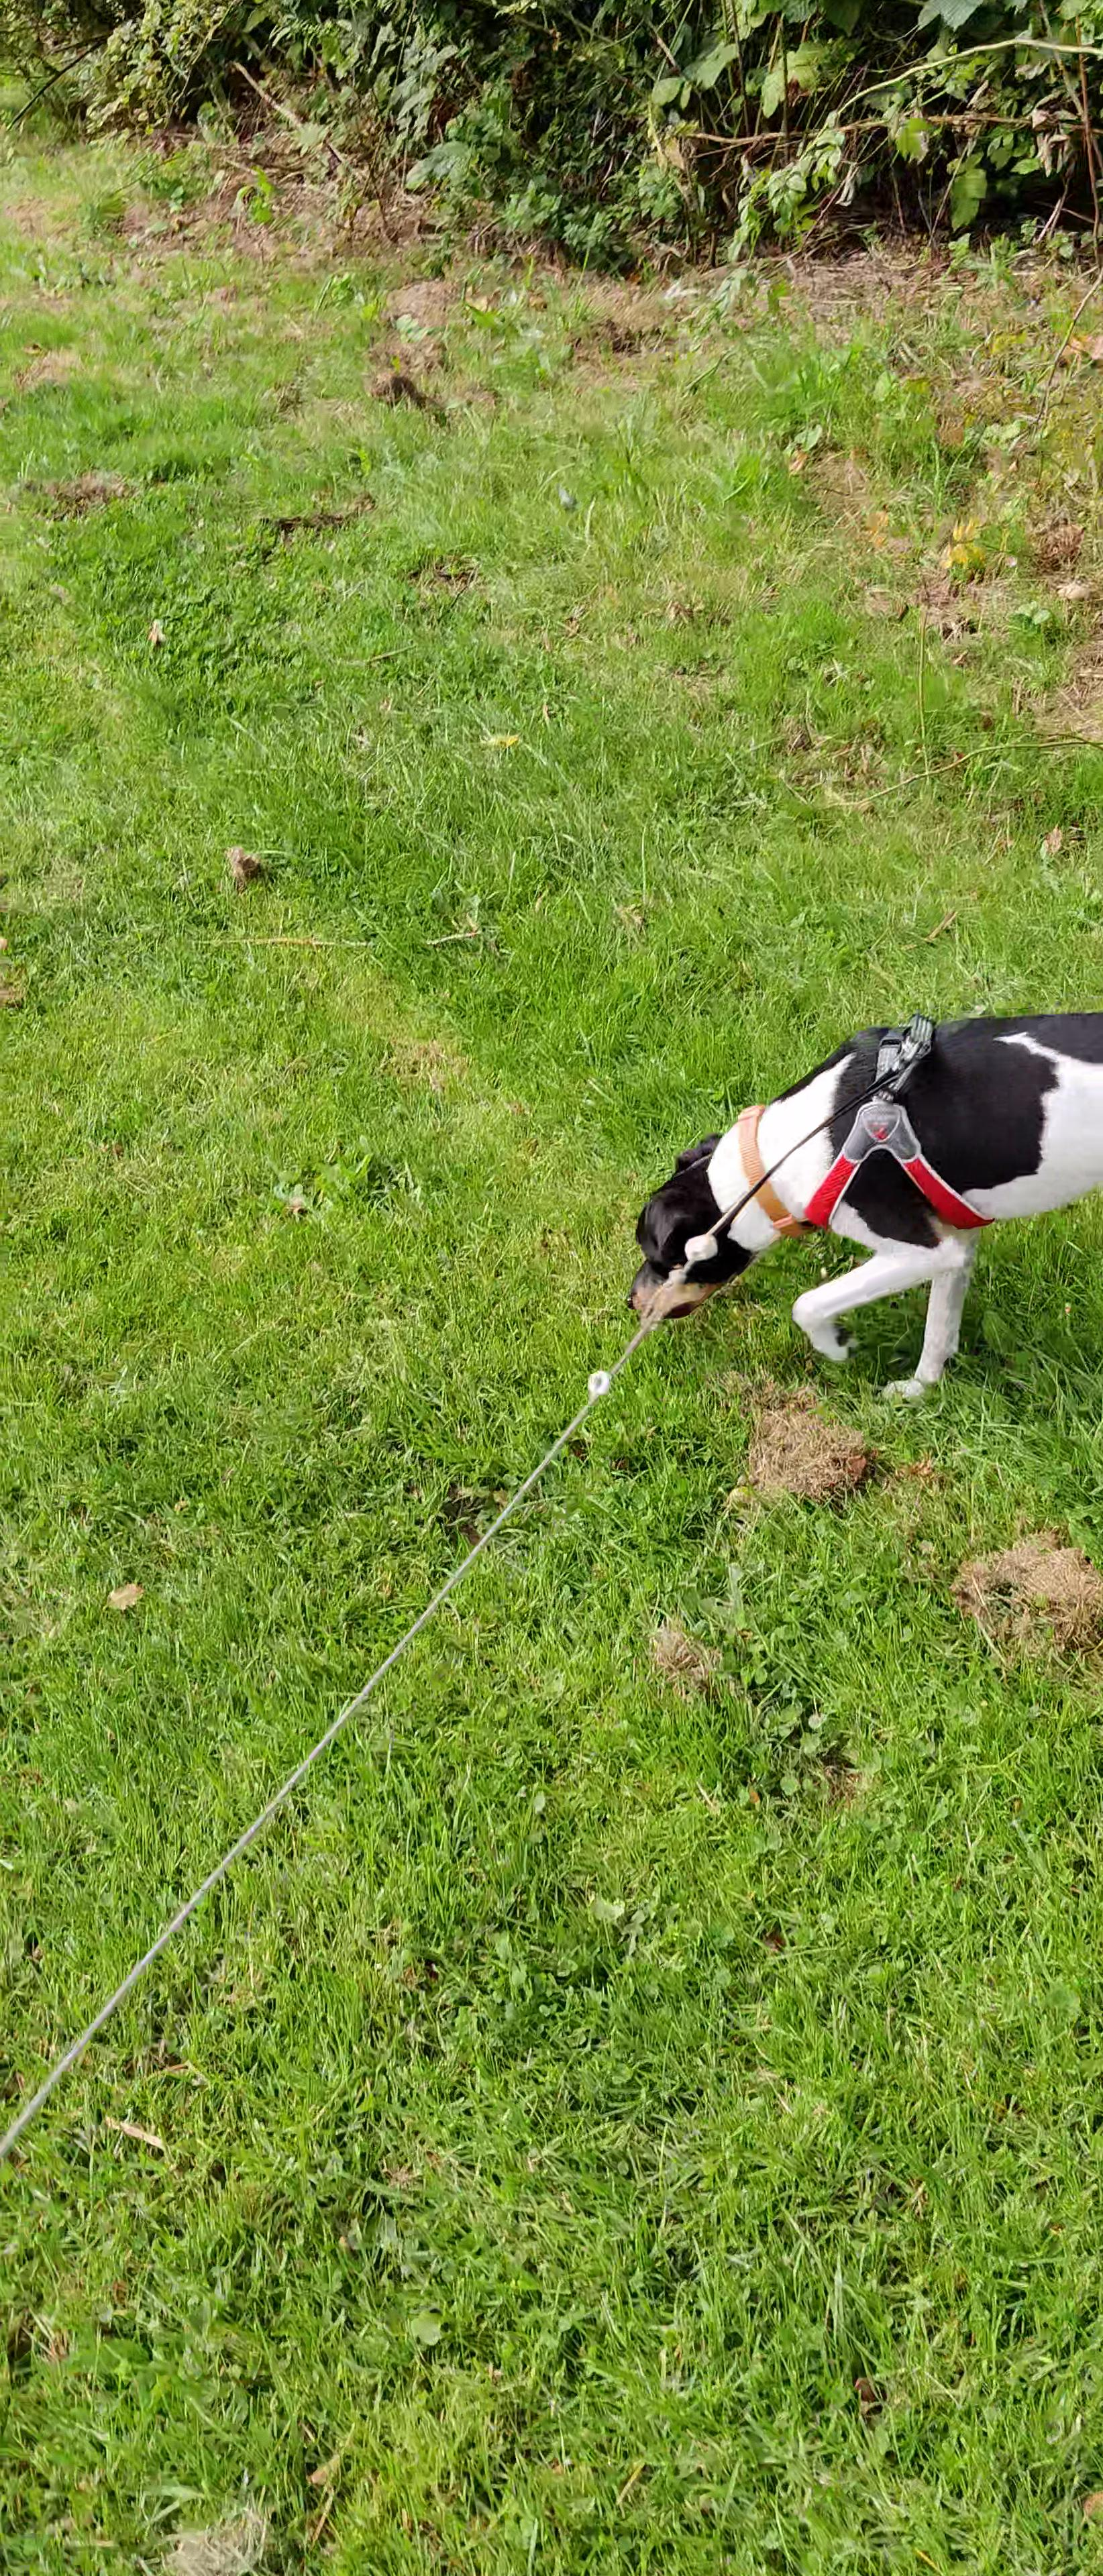Dog: (615, 996, 1103, 1398)
